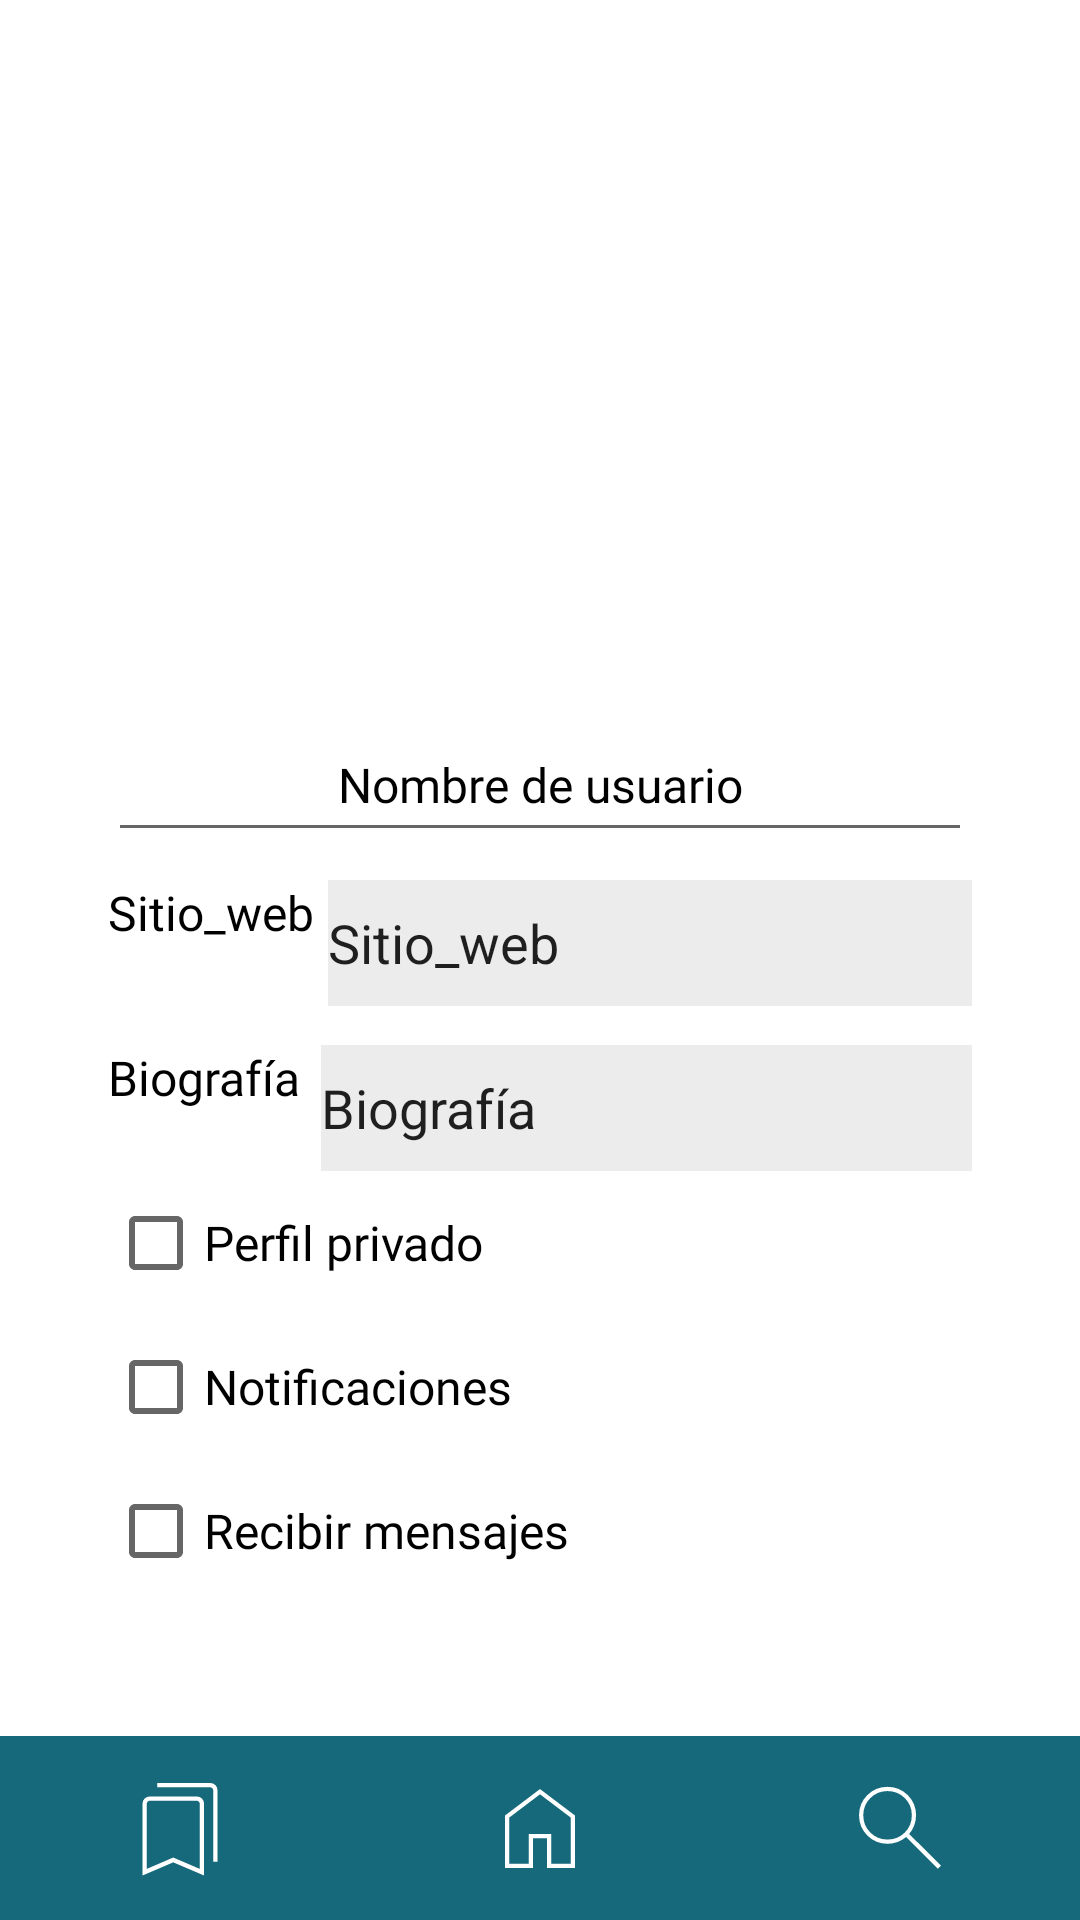

Icon click points for this 1080*1920 phone screenshot, format [x,y]:
bookmarks: [180,1829]
home: [540,1828]
search: [900,1827]
